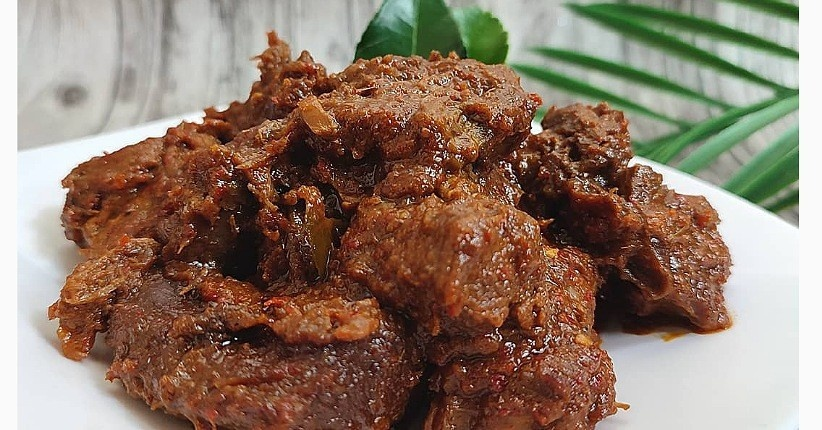rendang: (81, 76, 735, 427)
